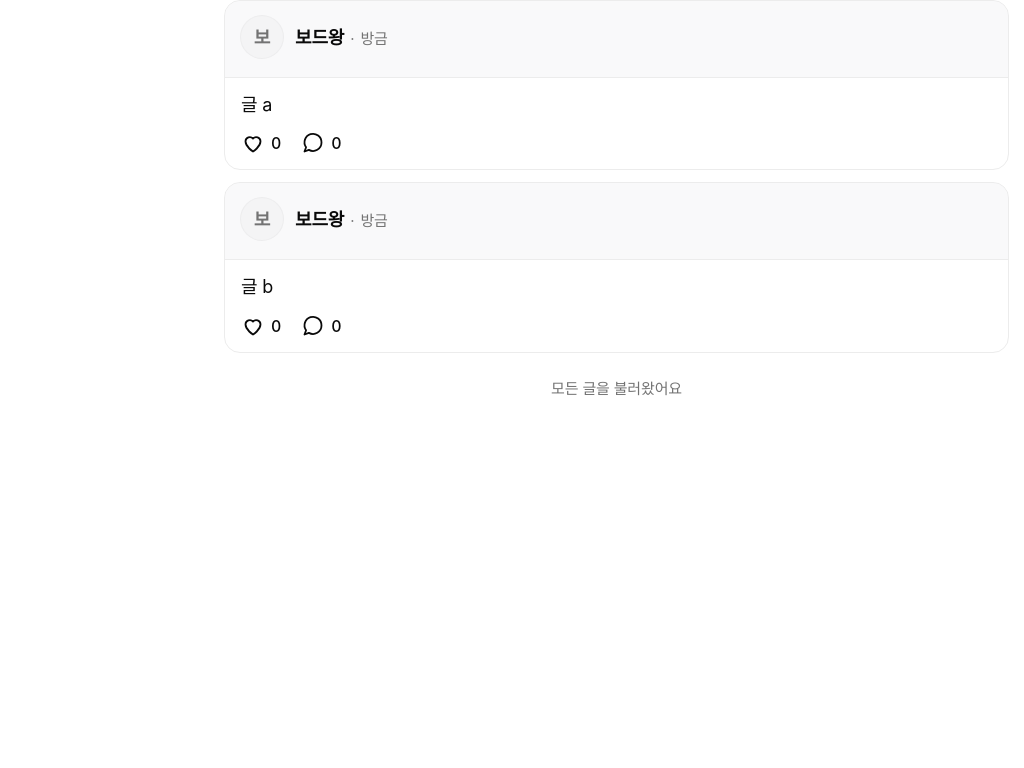
FeedList › 댓글을 달면 그 카드만 서버에서 다시 받아 바꿔 끼운다(무한 스크롤 목록은 revalidate로 안 바뀜)
Click the button named "댓글 0".
click(321, 143)  # box [293,123,349,163]
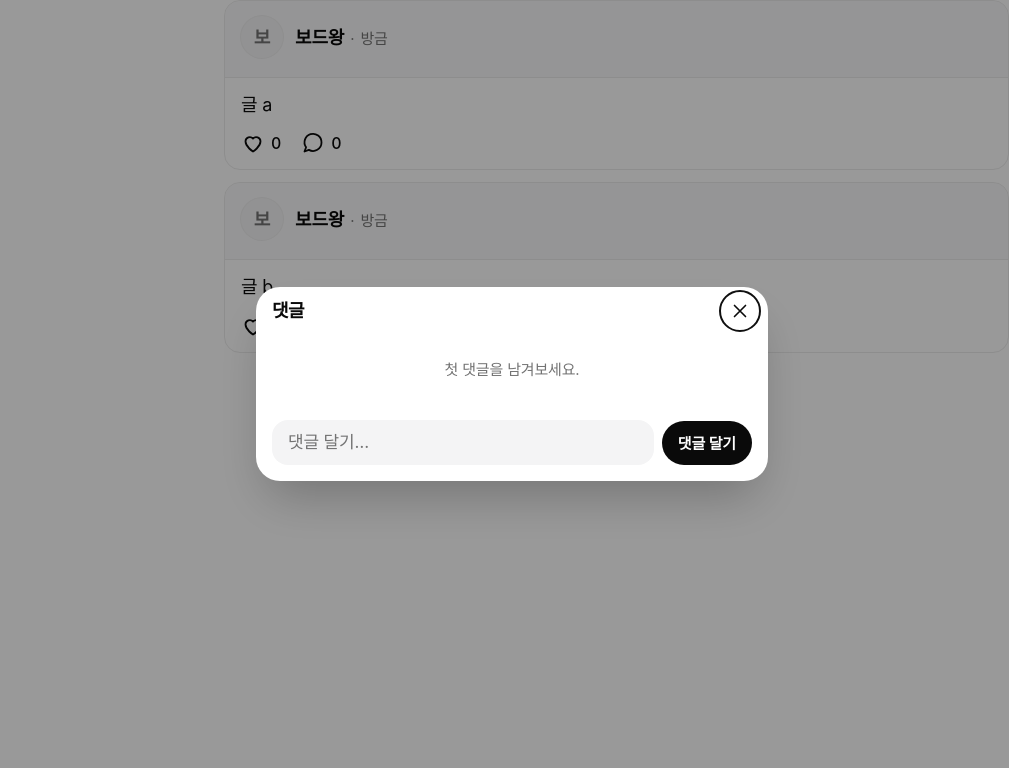
Type "새 댓글" into the text box named "댓글 쓰기".
click(463, 443); type("새 댓글")  # box [272,420,654,466]
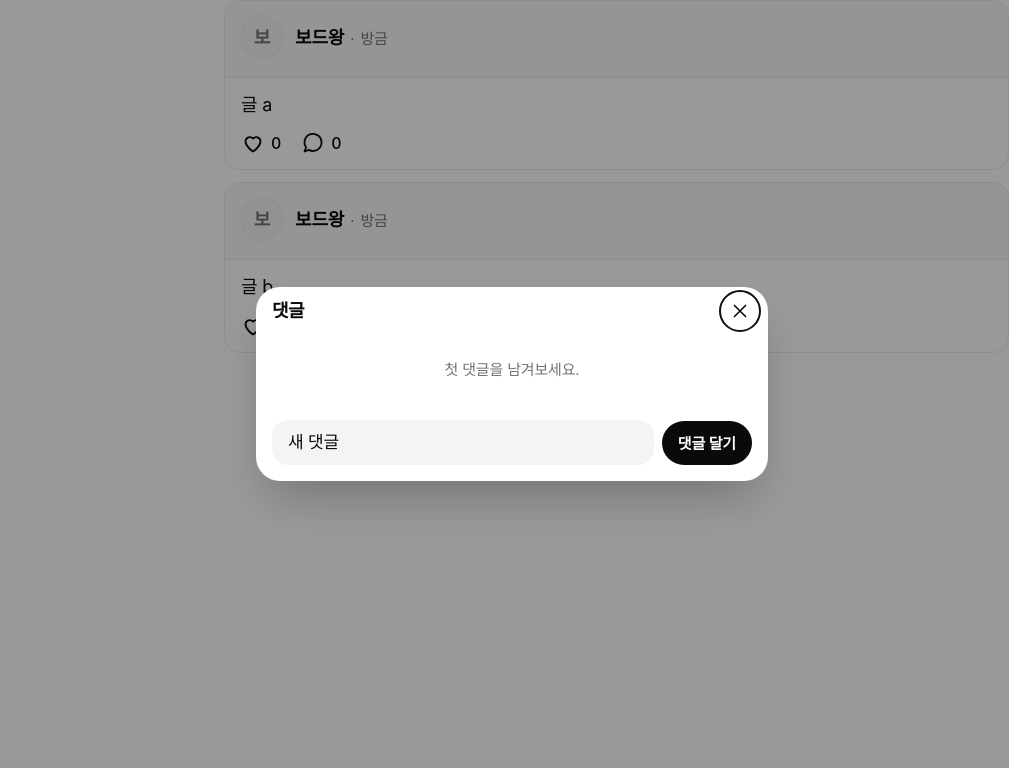
Click the button "댓글 달기".
click(707, 444)  # box [662,422,752,466]
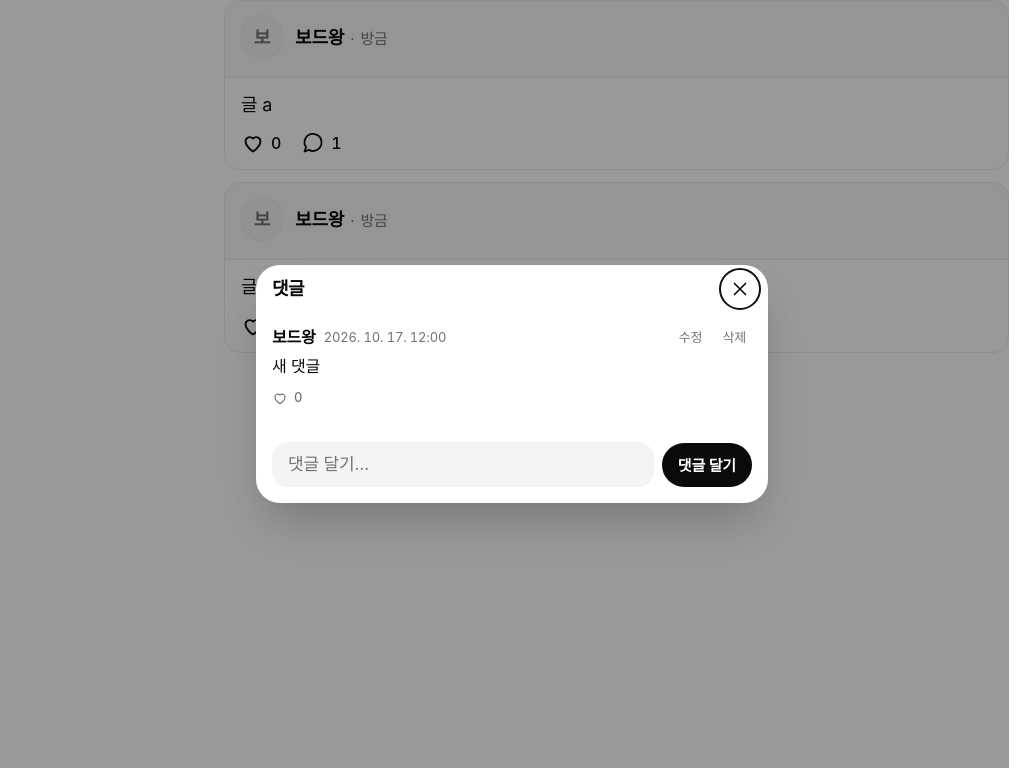
Expected: the button named "댓글 1" is shown, [293,123,349,163]
